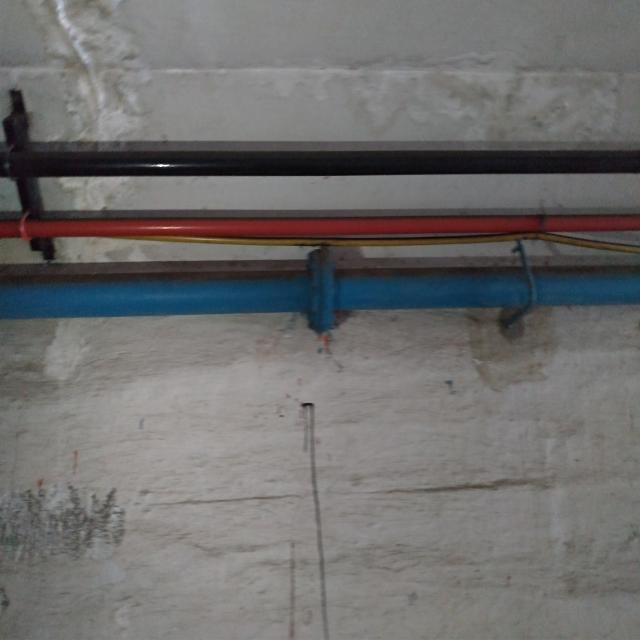gas: (0, 265, 637, 322), (5, 138, 638, 178), (2, 210, 640, 235)
